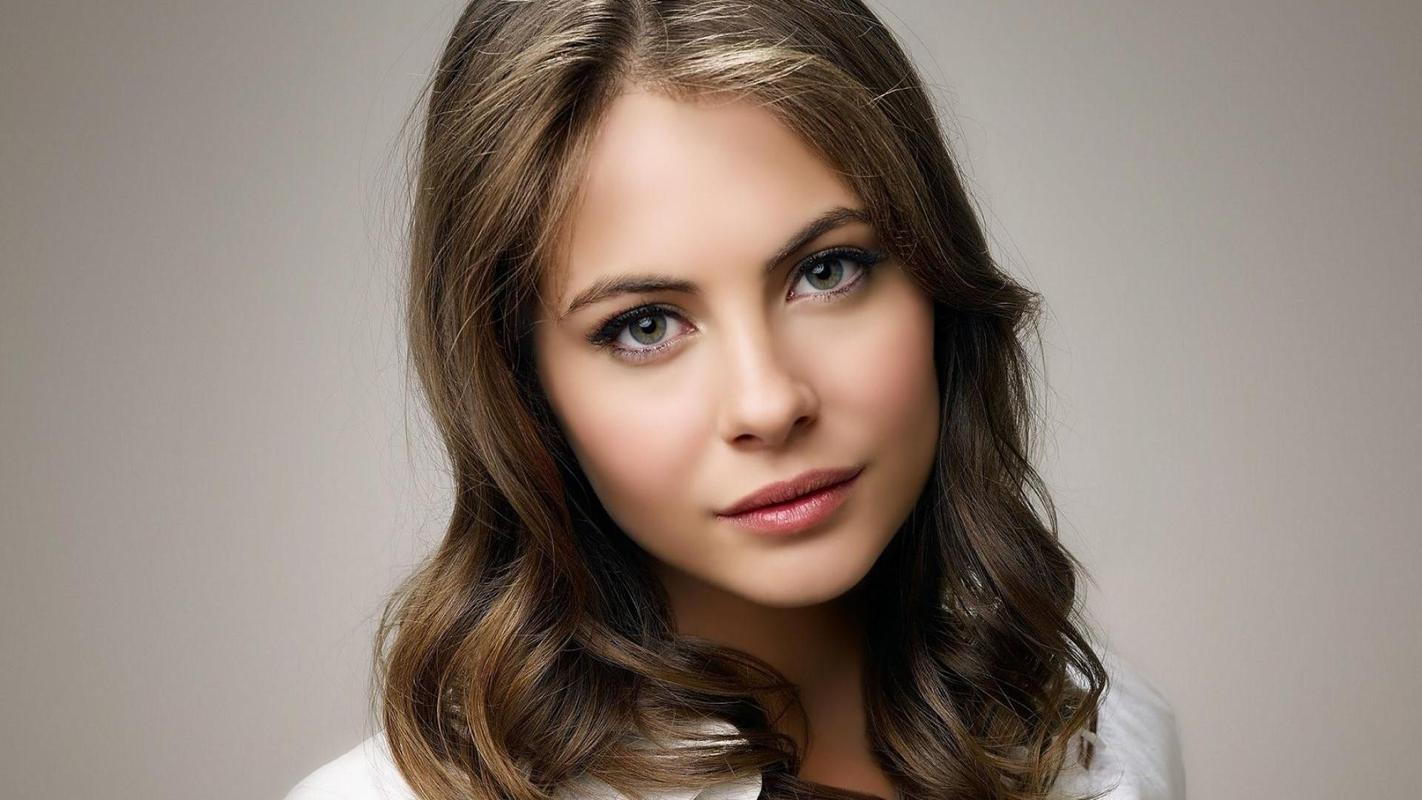no_mask: (550, 81, 960, 601)
